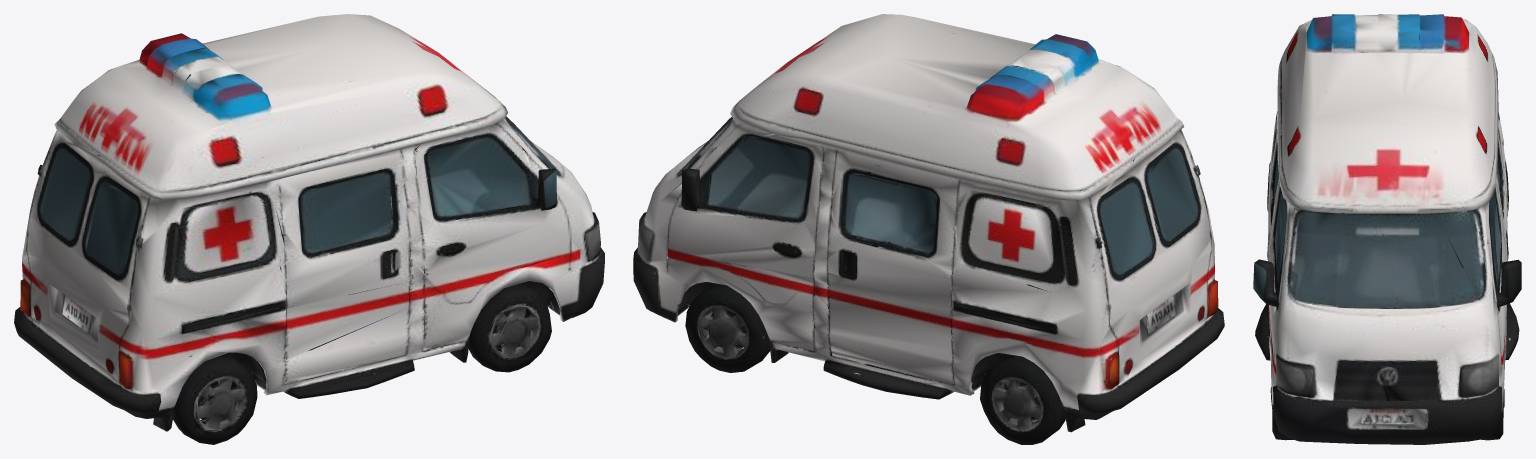
Rendered from ambulance.glb.
3 renders of one model, left to right at view 1: azimuth 30°, elevation 25°; view 2: azimuth 150°, elevation 25°; view 3: azimuth 270°, elevation 25°, orthographic. The views are drawn at different scales.
Parts seen in each view (by area): view 1: ambulance; view 2: ambulance; view 3: ambulance.
Boxes of the visible parts, <box> form: ambulance: <box>14,14,604,444</box>; ambulance: <box>633,14,1224,444</box>; ambulance: <box>1253,14,1521,444</box>.
Size of the model in its own units: 4.64 by 2.87 by 2.31.
1 material, 1 textured.
